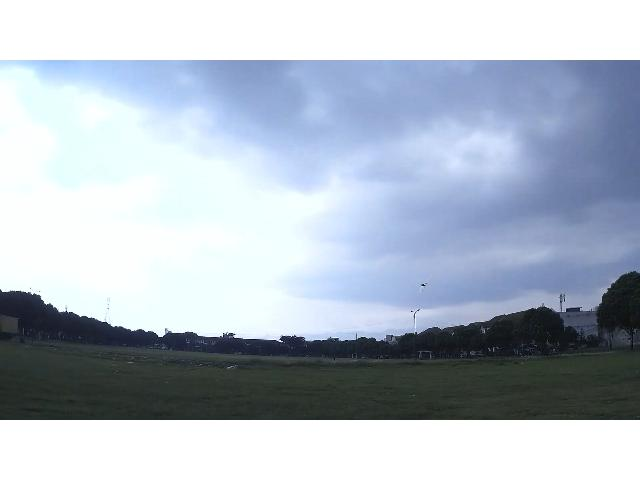Anti-Drone: (412, 276, 432, 303)
